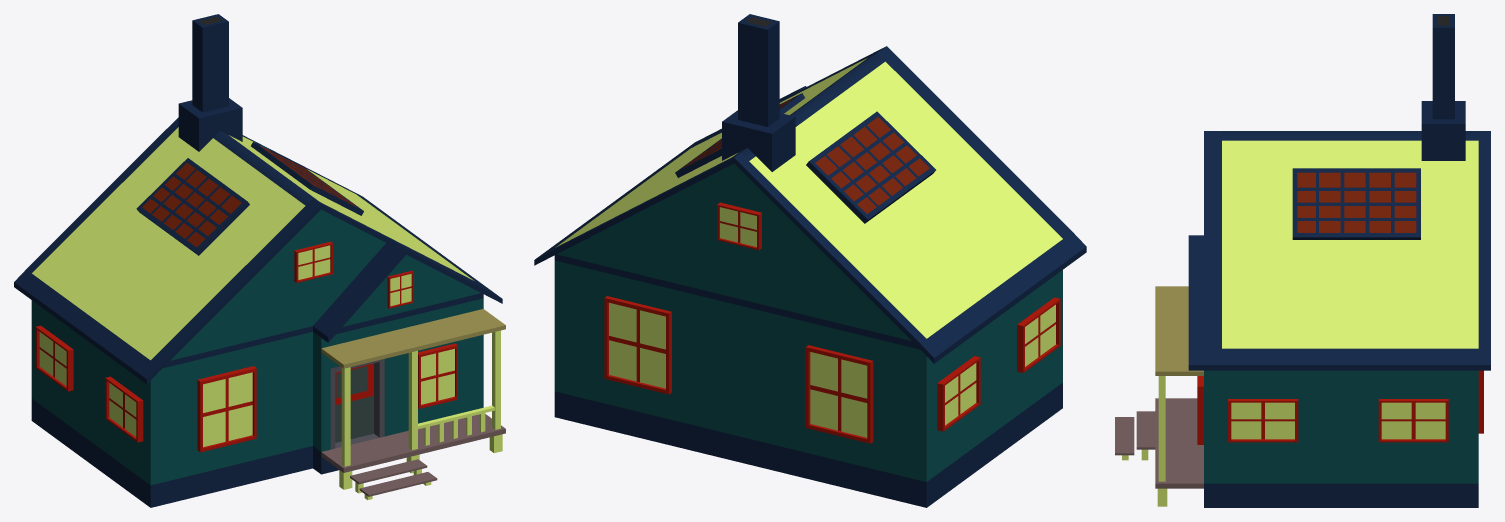
File: house1c.FBX
The picture shows the model from 3 angles, left to right: view 1: azimuth 30°, elevation 25°; view 2: azimuth 150°, elevation 25°; view 3: azimuth 270°, elevation 25°; orthographic projection. The views are drawn at different scales.
Visible parts, largest first — view 1: house1c; view 2: house1c; view 3: house1c.
Boxes of the visible parts, left/top/right/bottom form: house1c: left=14, top=14, right=505, bottom=507; house1c: left=534, top=14, right=1086, bottom=507; house1c: left=1115, top=14, right=1490, bottom=507.
Bounding box in the file's own units: 25.63 × 26.14 × 22.16.
